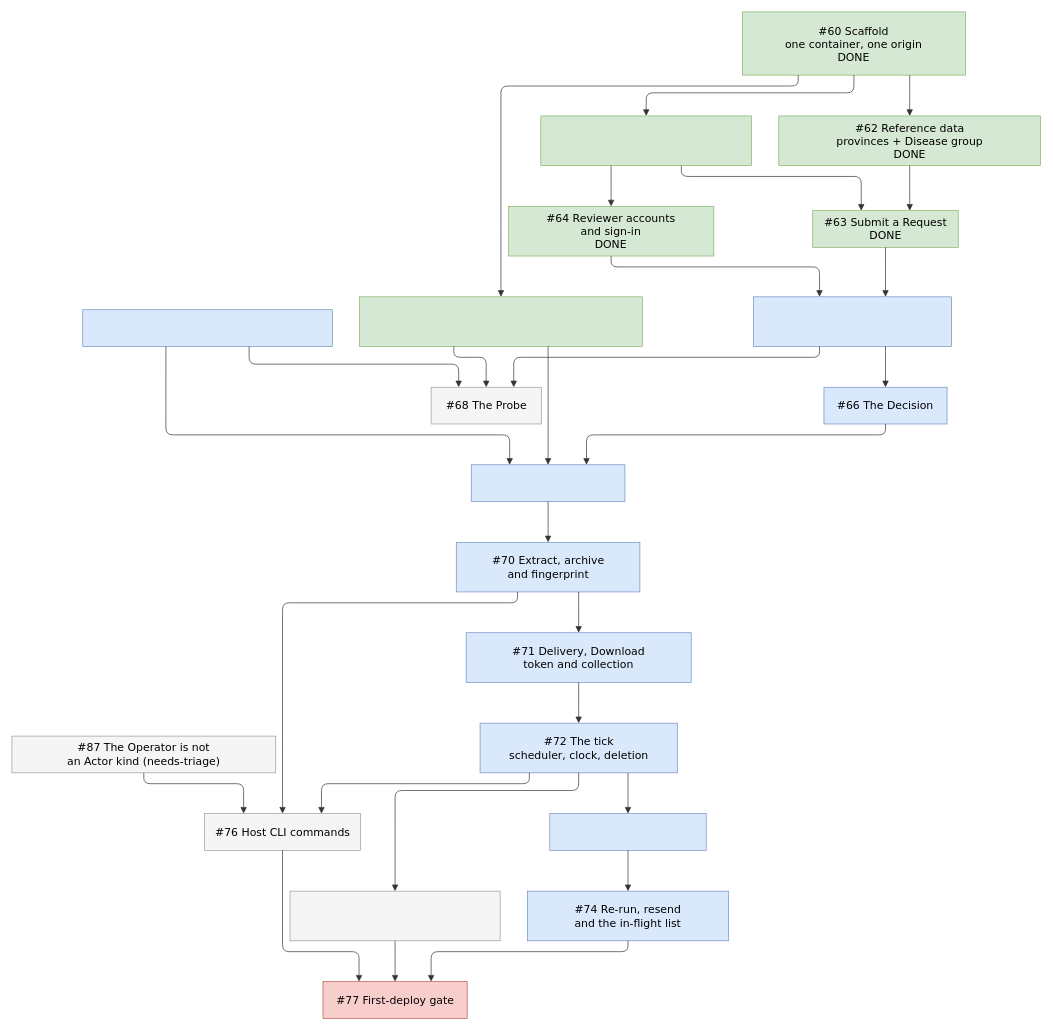
Image size: 1053x1030. Some labels were removed from this diagram. Each missing label, with the centre of its shape:
"#61 Audit spine append-only events DONE" belongs at (646,140).
"#65 Reviewer queue and review screen" belongs at (852,321).
"#67 Upstream boundary fake harness, span, client DONE" belongs at (500,321).
"#69 Extraction pipeline" belongs at (548,483).
"#73 Alerts on the queue" belongs at (627,831).
"#75 Observability health, logs, Bull Board" belongs at (394,915).
"#85 Validate config at boot through ConfigModule" belongs at (207,327).
